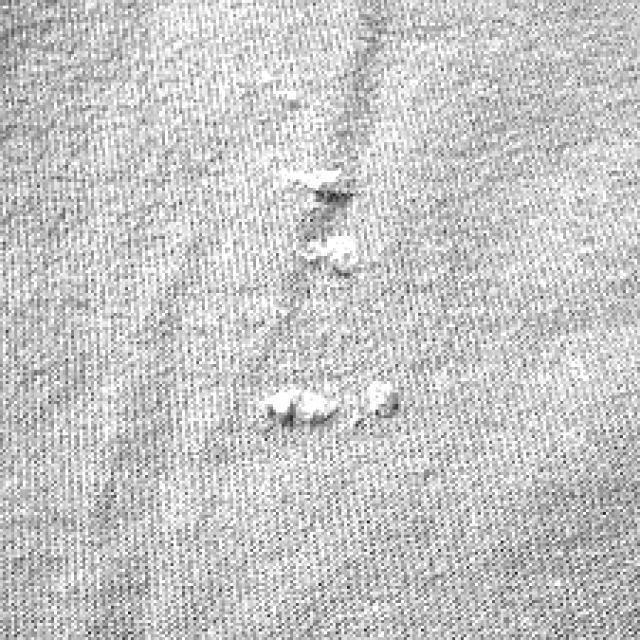stains: (160, 108, 486, 298), (154, 333, 494, 491)
